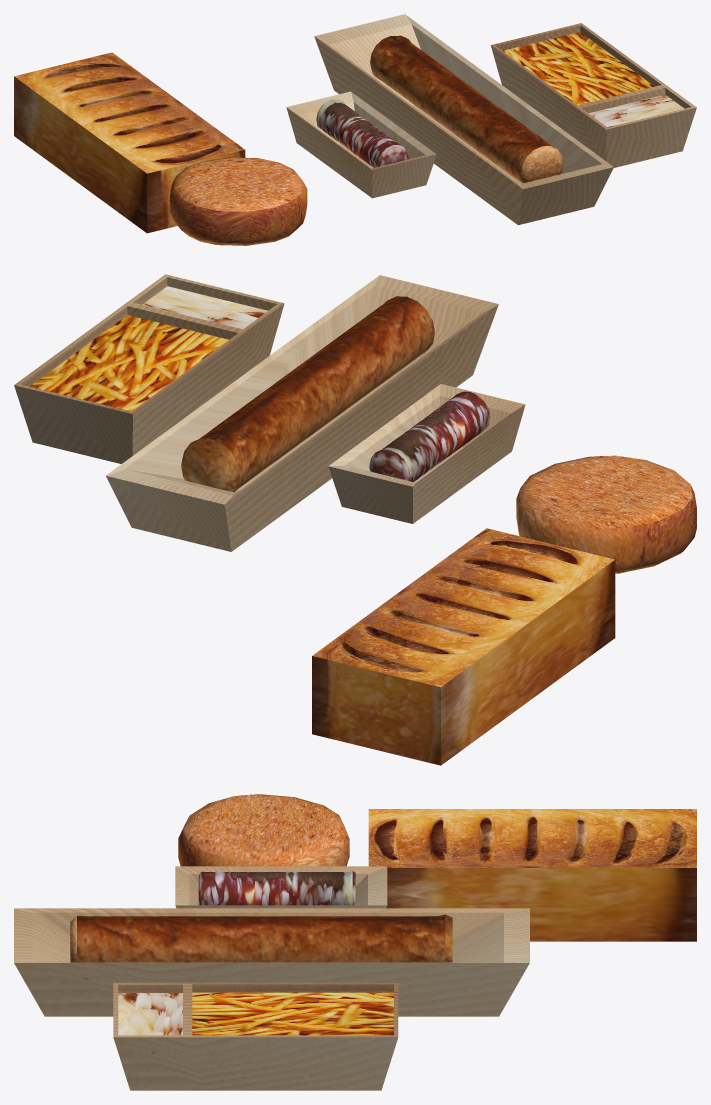
Rendered from snacks.fbx.
3 views of the same model, one above another, from view 1: azimuth 30°, elevation 25°; view 2: azimuth 150°, elevation 25°; view 3: azimuth 270°, elevation 25° (orthographic). The views are drawn at different scales.
Parts seen in each view (by area): view 1: frika xl, mexicano, patat special, Circle, frika special; view 2: frika xl, mexicano, patat special, frika special, Circle; view 3: frika xl, mexicano, patat special, Circle, frika special.
Boxes of the visible parts, <box> form: frika xl: <box>314,14,613,225</box>; mexicano: <box>14,52,245,233</box>; patat special: <box>490,23,696,167</box>; Circle: <box>169,157,307,245</box>; frika special: <box>286,91,436,198</box>; frika xl: <box>106,275,498,551</box>; mexicano: <box>312,528,615,765</box>; patat special: <box>14,274,284,463</box>; frika special: <box>328,384,525,523</box>; Circle: <box>516,455,696,573</box>; frika xl: <box>14,908,529,1016</box>; mexicano: <box>368,809,696,941</box>; patat special: <box>113,982,398,1090</box>; Circle: <box>178,794,349,866</box>; frika special: <box>175,866,387,908</box>.
Size of the model in its own units: 77.31 by 17.28 by 81.
Materials: 7 (7 with a texture image).
